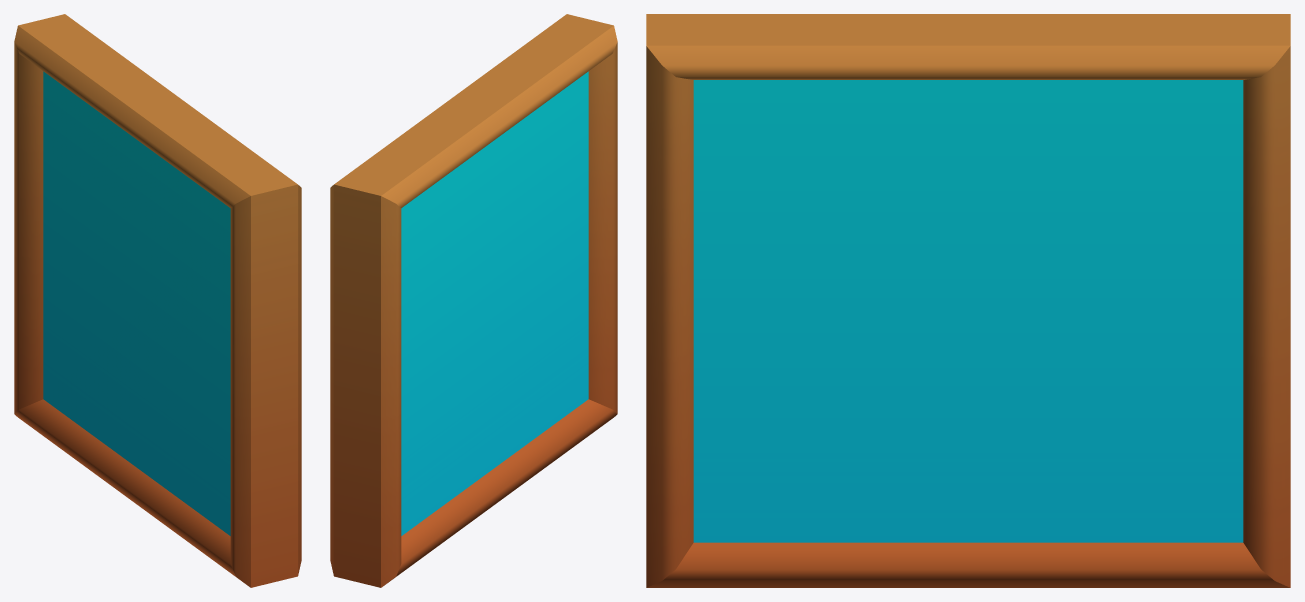
File: SM_Ventana.fbx
3 views of the same model, side by side, from view 1: azimuth 30°, elevation 25°; view 2: azimuth 150°, elevation 25°; view 3: azimuth 270°, elevation 25° (orthographic). The views are drawn at different scales.
Parts seen in each view (by area): view 1: Ventana; view 2: Ventana; view 3: Ventana.
Boxes of the visible parts, left/top/right/bottom form: Ventana: left=14, top=14, right=301, bottom=587; Ventana: left=330, top=14, right=617, bottom=587; Ventana: left=646, top=14, right=1290, bottom=587.
Size of the model in its own units: 26.47 by 150 by 162.
